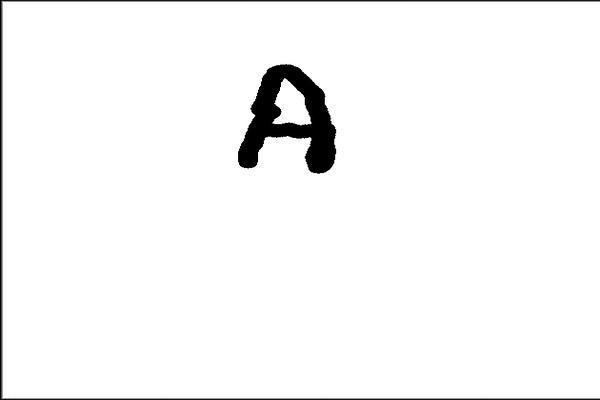A: (227, 57, 340, 183)
